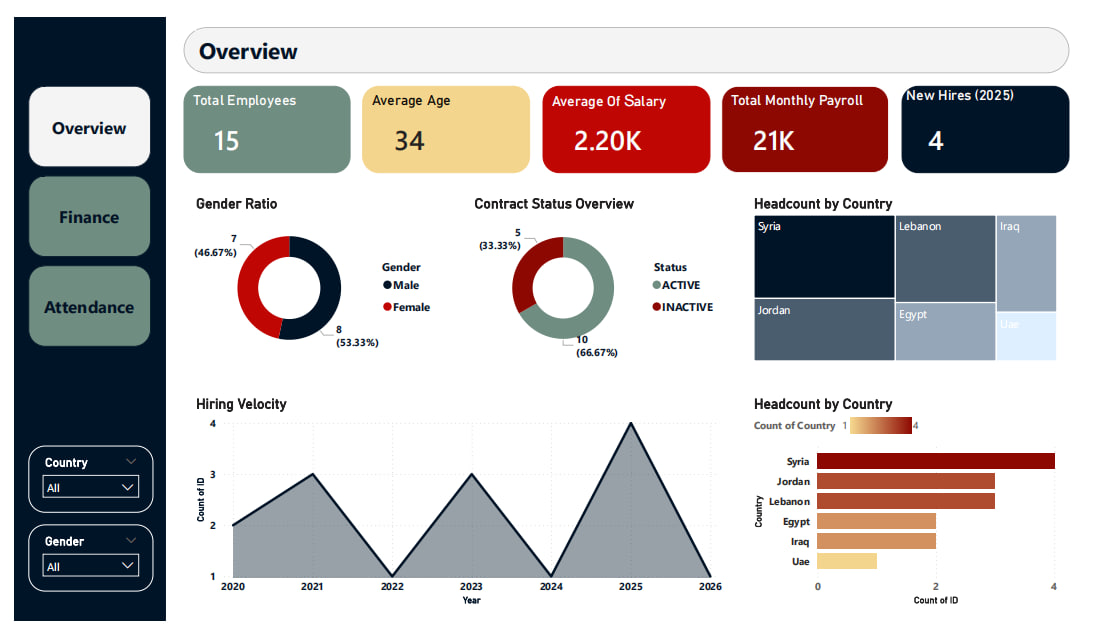

Layout of this report page (visuals, bound fields, positions):
{"tool":"powerbi","page":{"name":"Overview","canvas":[1280,720],"ordinal":0},"visuals":[{"type":"shape","box":[0,0,184.8,720.6],"z":0},{"type":"cardVisual","title":"Total Employees","fields":{"Data":["CountNonNull(Employee.ID)"]},"box":[201.6,82.3,199.9,104.1],"z":1000},{"type":"cardVisual","title":"Average Age","fields":{"Data":["Avg(Employee.Age)"]},"box":[415,82.3,199.9,104.1],"z":2000},{"type":"cardVisual","title":"Average Of Sِalary","fields":{"Data":["Avg(Employee.Salary_USD)"]},"box":[629.9,82.3,199.9,104.1],"z":3000},{"type":"cardVisual","title":"New Hires (2025)","fields":{"Data":["CountNonNull(Employee.ID)"]},"box":[1058.3,82.3,199.9,104.1],"z":4000},{"type":"donutChart","title":" Gender Ratio","fields":{"Category":["Employee.Gender"],"Y":["CountNonNull(Employee.ID)"]},"box":[201.6,201.6,324.2,223.4],"z":5000},{"type":"donutChart","title":" Contract Status Overview","fields":{"Y":["CountNonNull(Employee.ID)"],"Category":["Employee.Contract Status"]},"box":[534.2,201.6,324,223.4],"z":6000},{"type":"barChart","title":"Headcount by Country","fields":{"Category":["Employee.Country"],"Y":["Count(Employee.ID)"]},"box":[867.2,441.4,391.4,274.1],"z":7000},{"type":"areaChart","title":"Hiring Velocity","fields":{"Category":["Employee.Join_Date.Variation.Date Hierarchy.Year","Employee.Join_Date.Variation.Date Hierarchy.Quarter","Employee.Join_Date.Variation.Date Hierarchy.Month","Employee.Join_Date.Variation.Date Hierarchy.Day"],"Y":["CountNonNull(Employee.ID)"]},"box":[201.7,441.4,656.9,274.1],"z":8000},{"type":"treemap","title":"Headcount by Country","fields":{"Group":["Employee.Country"],"Values":["CountNonNull(Employee.ID)"]},"box":[866.8,201.6,391.4,223.4],"z":9000},{"type":"cardVisual","title":"Total Monthly Payroll","fields":{"Data":["Sum(Employee.Salary_USD)"]},"box":[843.3,82.3,199.9,104.1],"z":10000},{"type":"slicer","fields":{"Values":["Employee.Country"]},"box":[16.8,510.7,149.5,80.6],"z":11000},{"type":"slicer","fields":{"Values":["Employee.Gender"]},"box":[16.8,604.7,149.5,80.6],"z":12000},{"type":"pageNavigator","box":[16.8,82.3,146.1,312.4],"z":13000},{"type":"shape","box":[201.6,11.8,1056.6,55.4],"z":14000},{"type":"textbox","box":[216.2,16.2,299,46.5],"z":15000}]}

Visuals, with their boxes on the page's 1280x720 design canvas (x1, y1, x2, y2). These are canvas units, not pixel positions in the 1096x634 screenshot, which may show the page scaled, cropped or inside an application window:
shape: crop(0, 0, 185, 721)
"Total Employees" cardVisual: crop(202, 82, 402, 186)
"Average Age" cardVisual: crop(415, 82, 615, 186)
"Average Of Sِalary" cardVisual: crop(630, 82, 830, 186)
"New Hires (2025)" cardVisual: crop(1058, 82, 1258, 186)
" Gender Ratio" donutChart: crop(202, 202, 526, 425)
" Contract Status Overview" donutChart: crop(534, 202, 858, 425)
"Headcount by Country" barChart: crop(867, 441, 1259, 716)
"Hiring Velocity" areaChart: crop(202, 441, 859, 716)
"Headcount by Country" treemap: crop(867, 202, 1258, 425)
"Total Monthly Payroll" cardVisual: crop(843, 82, 1043, 186)
slicer - Employee.Country: crop(17, 511, 166, 591)
slicer - Employee.Gender: crop(17, 605, 166, 685)
pageNavigator: crop(17, 82, 163, 395)
shape: crop(202, 12, 1258, 67)
textbox: crop(216, 16, 515, 63)
